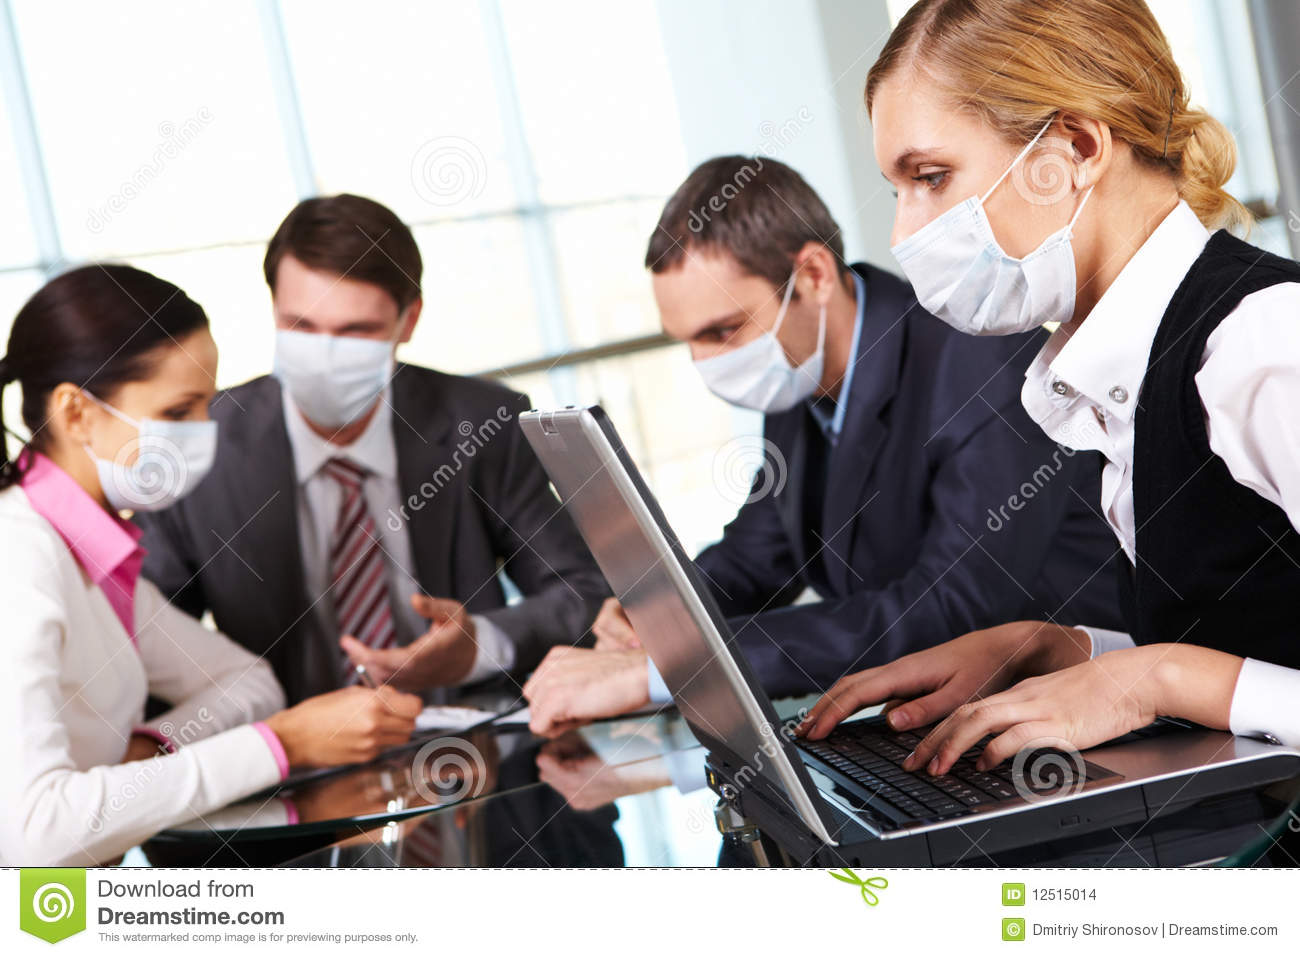mask: (896, 202, 1083, 332)
